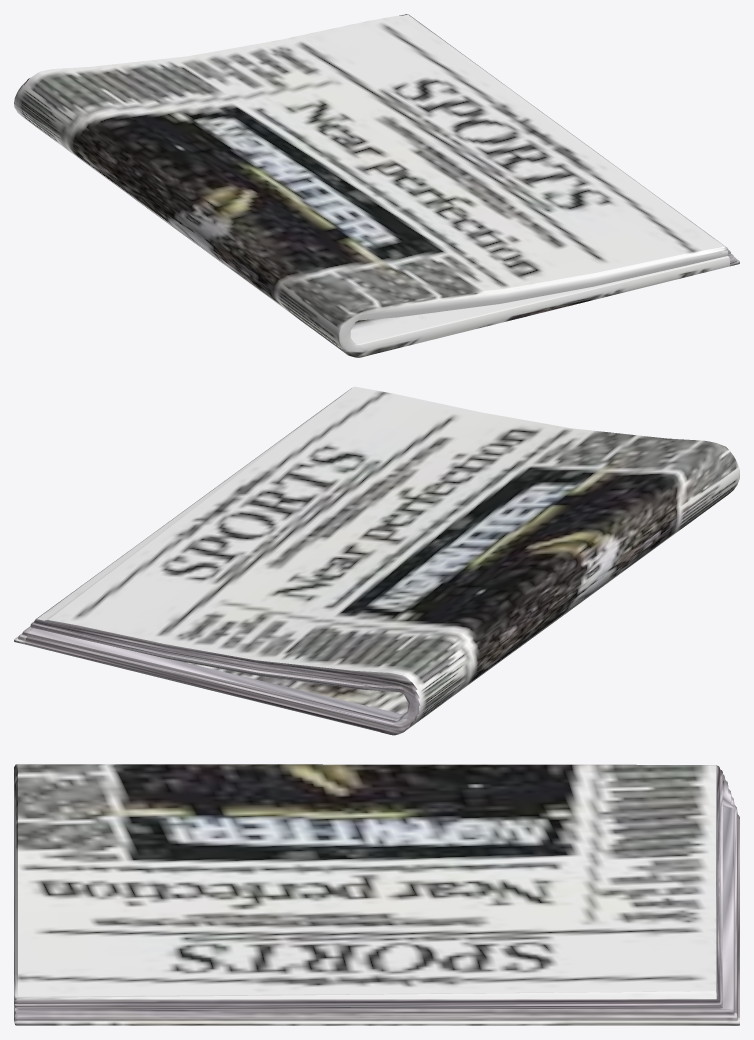
Rendered from ropa_folded_newspaper.glb.
The picture shows the model from 3 angles, top to bottom: view 1: azimuth 30°, elevation 25°; view 2: azimuth 150°, elevation 25°; view 3: azimuth 270°, elevation 25°; orthographic projection. The views are drawn at different scales.
Parts seen in each view (by area): view 1: NewspaperFolded_Newspaper_0; view 2: NewspaperFolded_Newspaper_0; view 3: NewspaperFolded_Newspaper_0.
Part boxes in pixels (box(x1,y1,x2,y2)): NewspaperFolded_Newspaper_0: box(14, 14, 739, 357); NewspaperFolded_Newspaper_0: box(14, 386, 739, 735); NewspaperFolded_Newspaper_0: box(14, 764, 739, 1025).
Bounding box in the file's own units: 0.2665 × 0.0339 × 0.38.
1 material, 1 textured.
